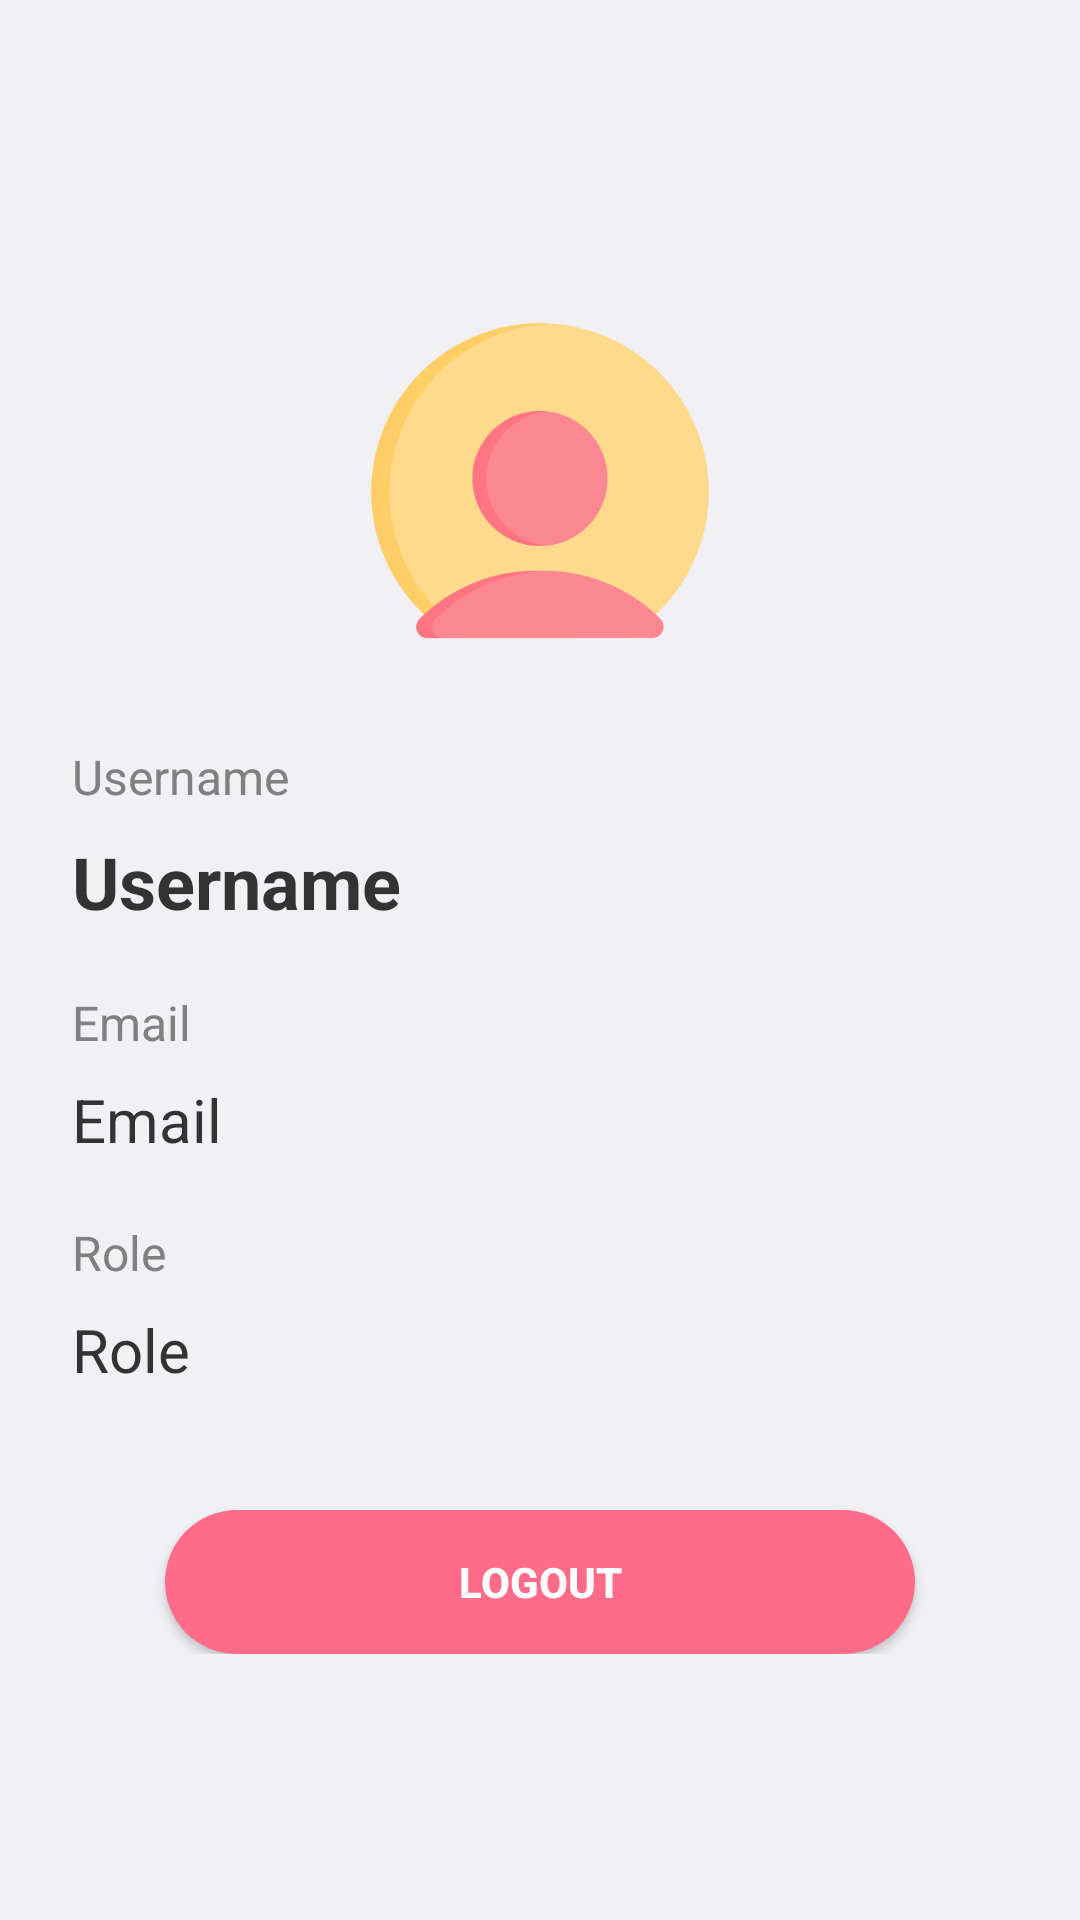

Icon click points for this 1080px×1920px phone screenshot, format (x=x, y=y):
Profile Picture: (x=540, y=480)
